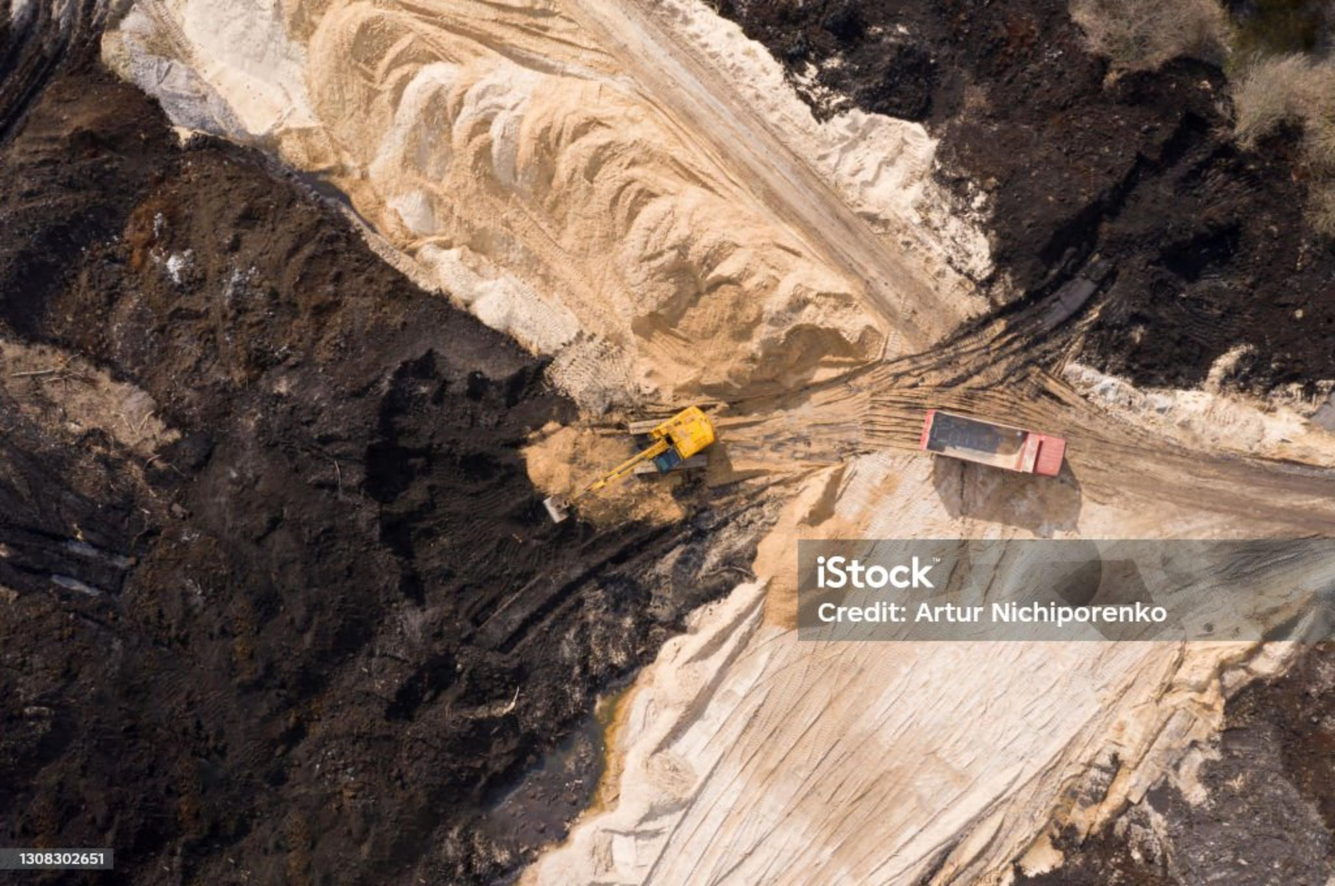excavator: (585, 434, 700, 493)
truck: (923, 417, 1039, 470)
